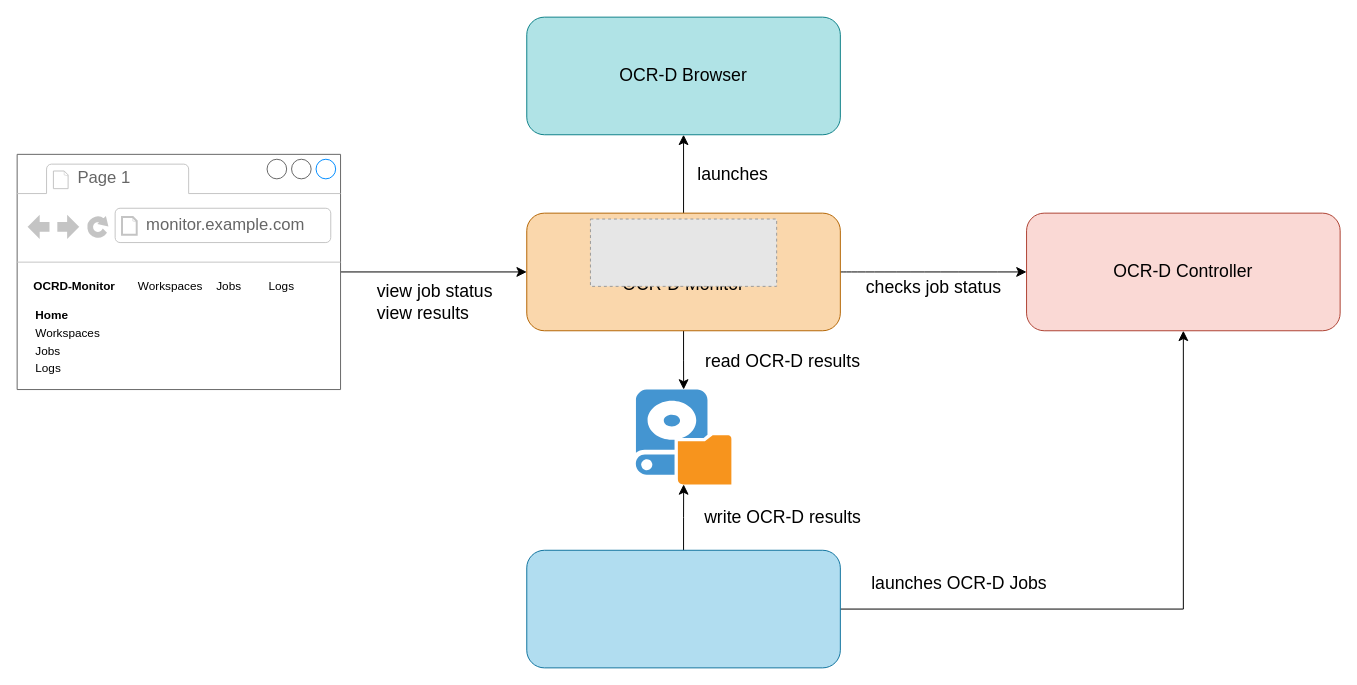
The diagram is 1357 pixels wide and 685 high, and some of its shapes have lost their labels. Grey dashed boxes stand in for pictures. The shapes that lost their labels are listed below. From the top down, each one's box as (x1, y1, x2, y2) in pixels, then its label:
(635, 389, 731, 484): shared filesystem
(526, 549, 840, 668): OCR-D Manager
